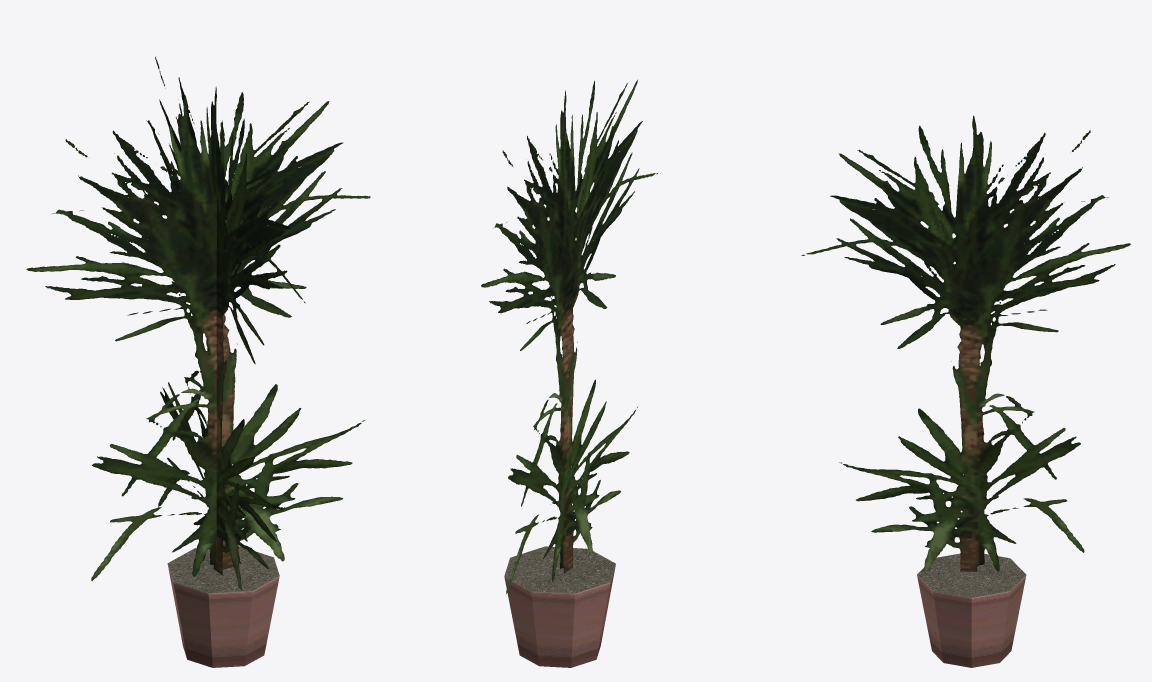
Rendered from veg_palmkb2.obj.
3 renders of one model, left to right at view 1: azimuth 30°, elevation 25°; view 2: azimuth 150°, elevation 25°; view 3: azimuth 270°, elevation 25°, orthographic. The views are drawn at different scales.
Parts seen in each view (by area): view 1: veg_palmkb2; view 2: veg_palmkb2; view 3: veg_palmkb2.
Boxes of the visible parts, <box> form: veg_palmkb2: <box>26,56,370,667</box>; veg_palmkb2: <box>481,80,657,667</box>; veg_palmkb2: <box>801,115,1130,667</box>.
Size of the model in its own units: 2.73 by 4.11 by 2.34.
